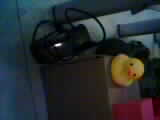duck: (108, 48, 143, 86)
